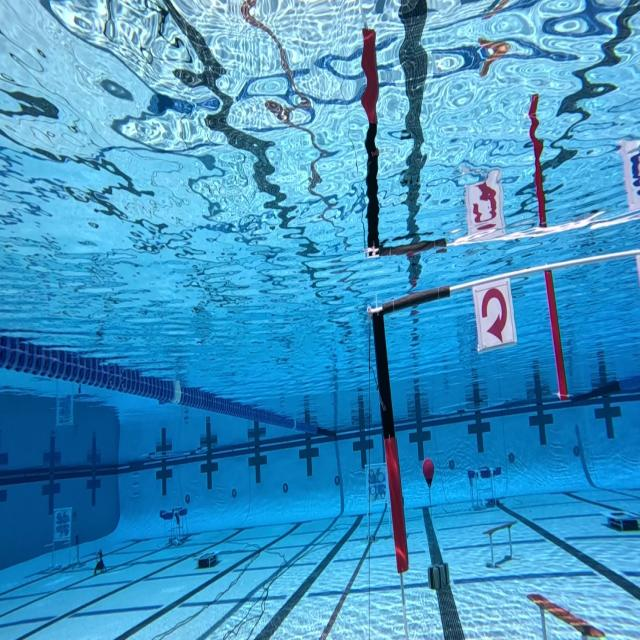red_side: (475, 283, 514, 354)
